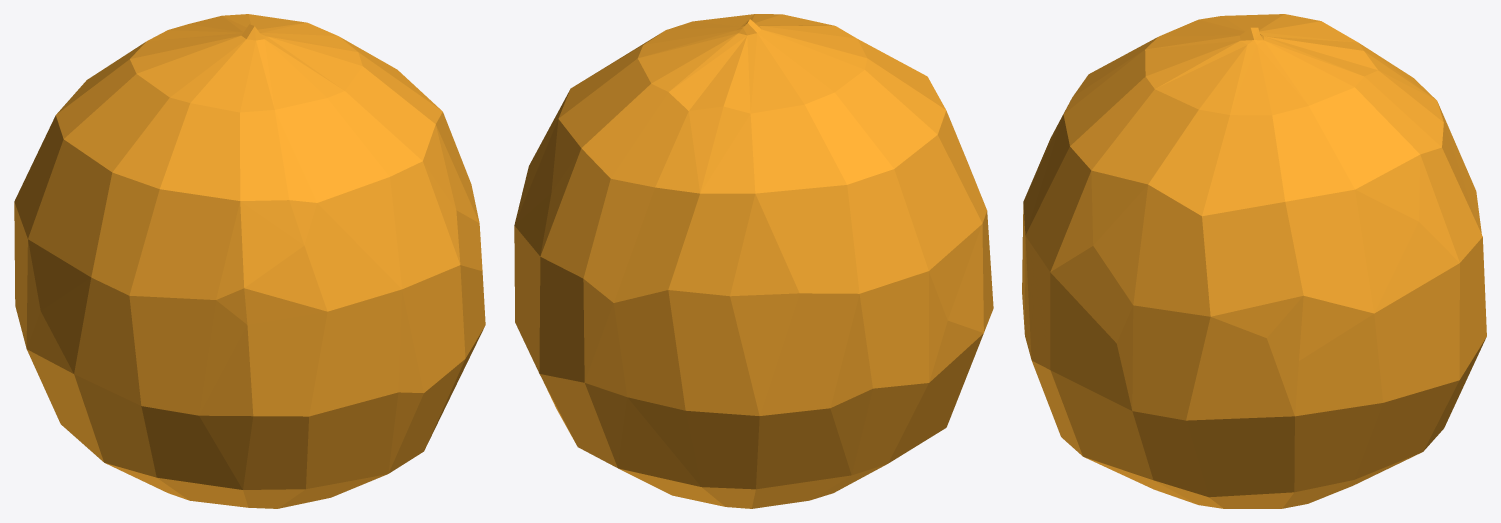
File: SM_Watermelon_B.fbx
3 renders of one model, left to right at view 1: azimuth 30°, elevation 25°; view 2: azimuth 150°, elevation 25°; view 3: azimuth 270°, elevation 25°, orthographic.
Visible parts, largest first — view 1: watermelon-b; view 2: watermelon-b; view 3: watermelon-b.
Part boxes in pixels (left/top/right/bottom): watermelon-b: left=14, top=14, right=485, bottom=508; watermelon-b: left=514, top=14, right=993, bottom=508; watermelon-b: left=1022, top=14, right=1486, bottom=508.
Bounding box in the file's own units: 0.4033 × 0.4298 × 0.3974.
